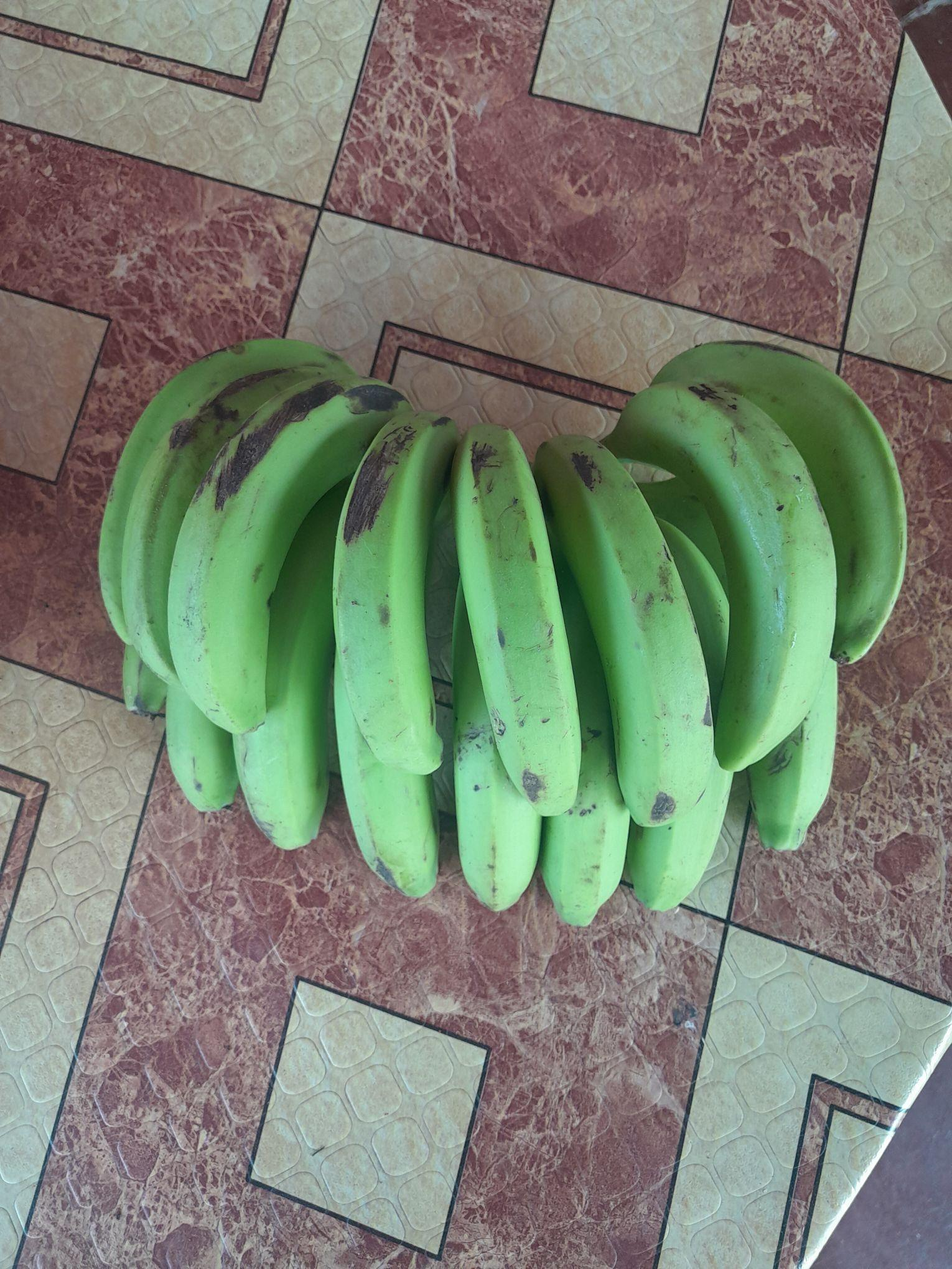Banana Unripe: (605, 382, 835, 771), (169, 377, 409, 734), (654, 342, 907, 664), (533, 436, 714, 828), (121, 367, 321, 687), (451, 424, 580, 815), (335, 404, 459, 776), (233, 481, 350, 850), (540, 555, 630, 927), (454, 587, 540, 912), (335, 662, 439, 897), (749, 659, 838, 850), (627, 758, 731, 912), (166, 684, 238, 810)
